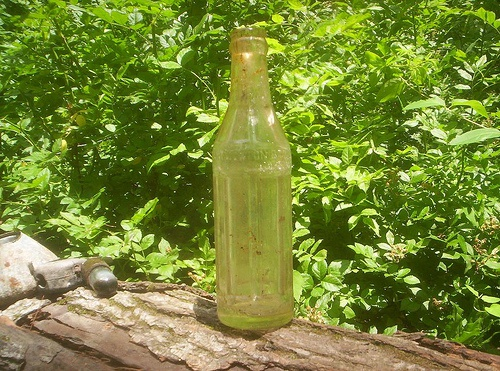emptybottle: (212, 29, 295, 330)
